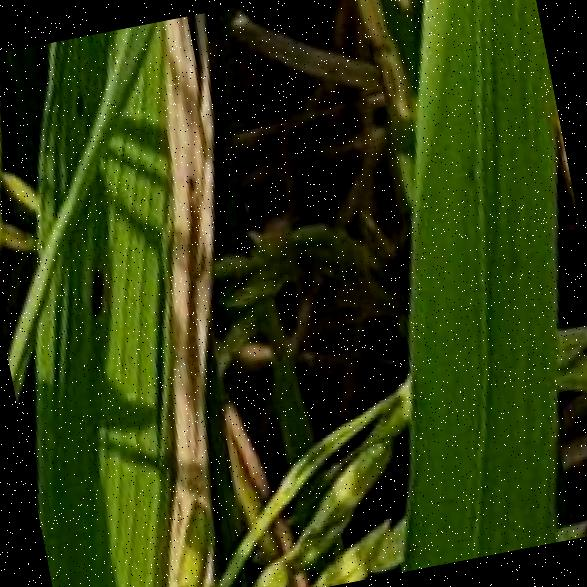Bacteria_Leaf_Blight: (80, 21, 298, 556)
